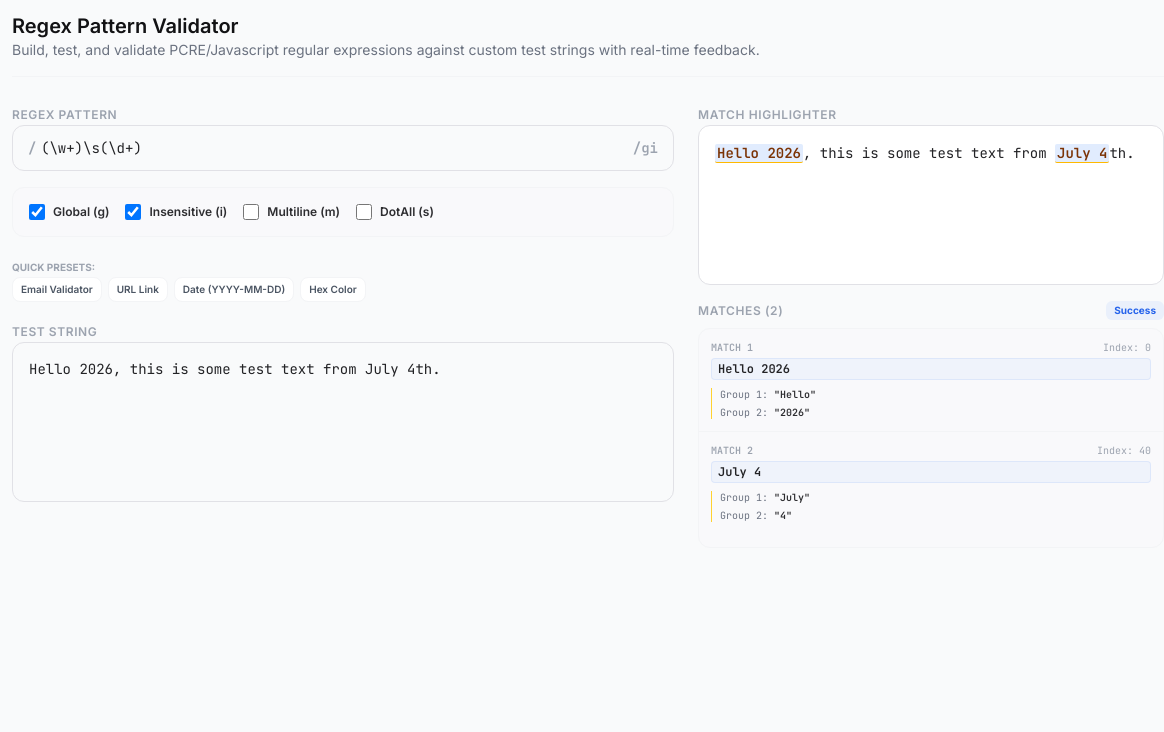
Test: RegexTool Component › renders correctly and matches pattern on input test text
Expected: the heading "Regex Pattern Validator" is shown, [12,14,238,38]
Note: Enter a simple email pattern
Replace the text in the field with placeholder "Type regex pattern... e.g., ([a-z]+)" with "[a-z]+@example\\.com". click: (343, 148)
box: [12,125,674,171]
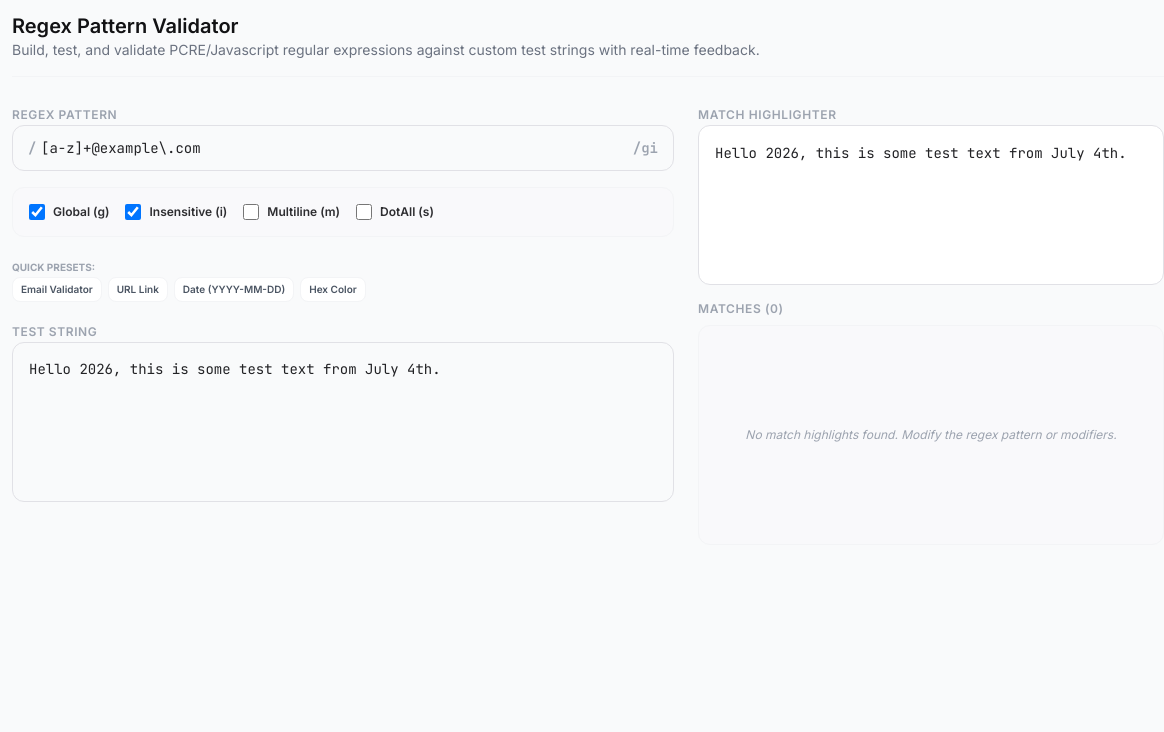
Replace the text in the text box with placeholder "Paste test paragraph to match patterns against..." with "Send to info@example.com right now.". click: (343, 422)
box: [12,342,674,502]
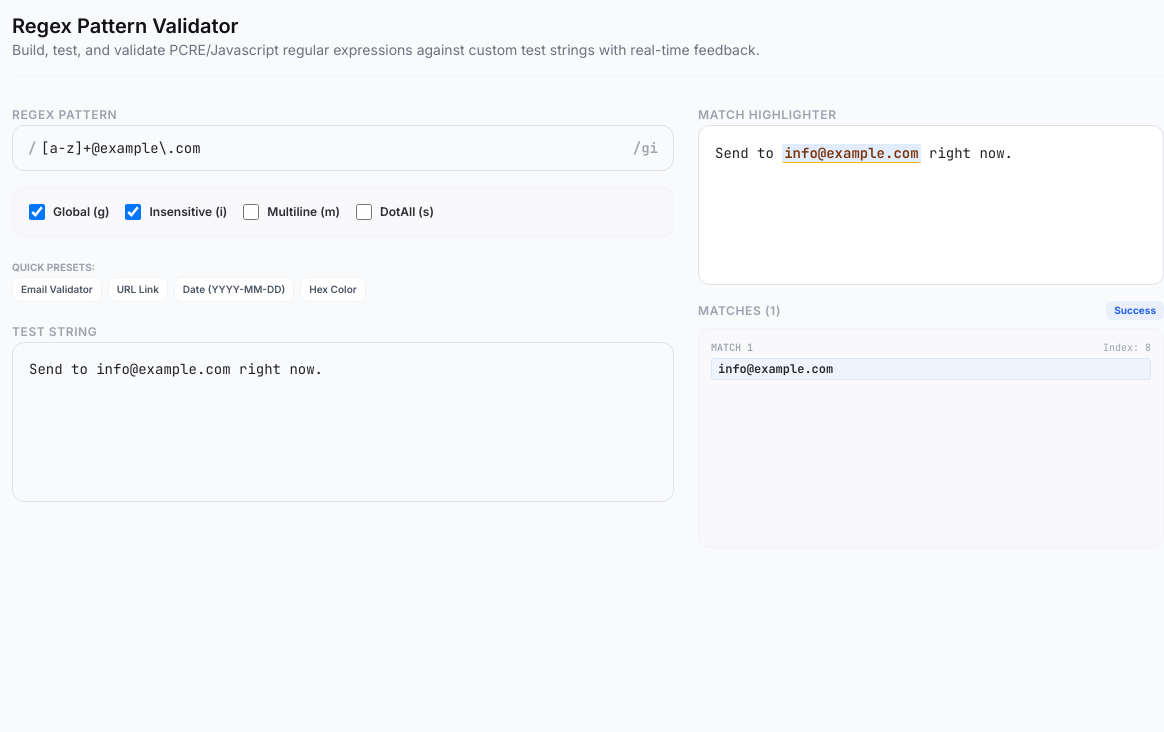
Now the text "Matches (1)" is shown, box [698,302,781,318]
